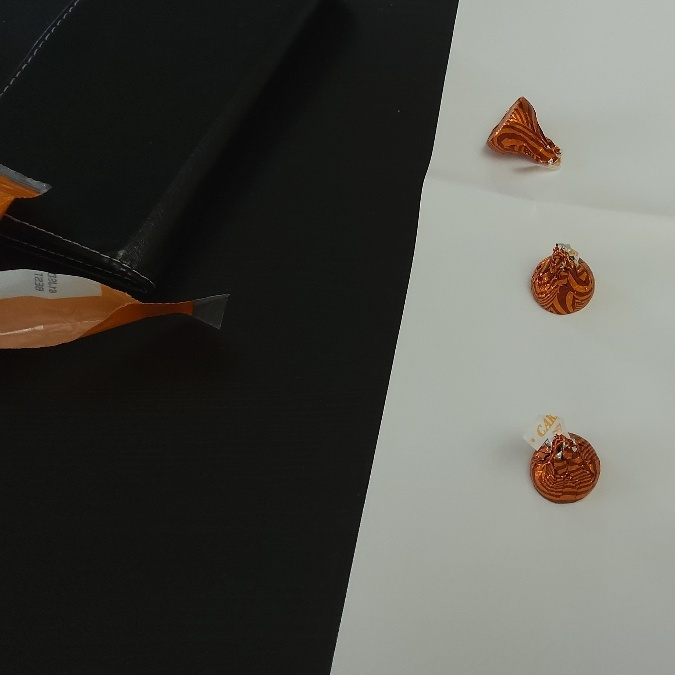chocolate_gold: (482, 98, 563, 171), (524, 431, 605, 504), (525, 246, 599, 318)
